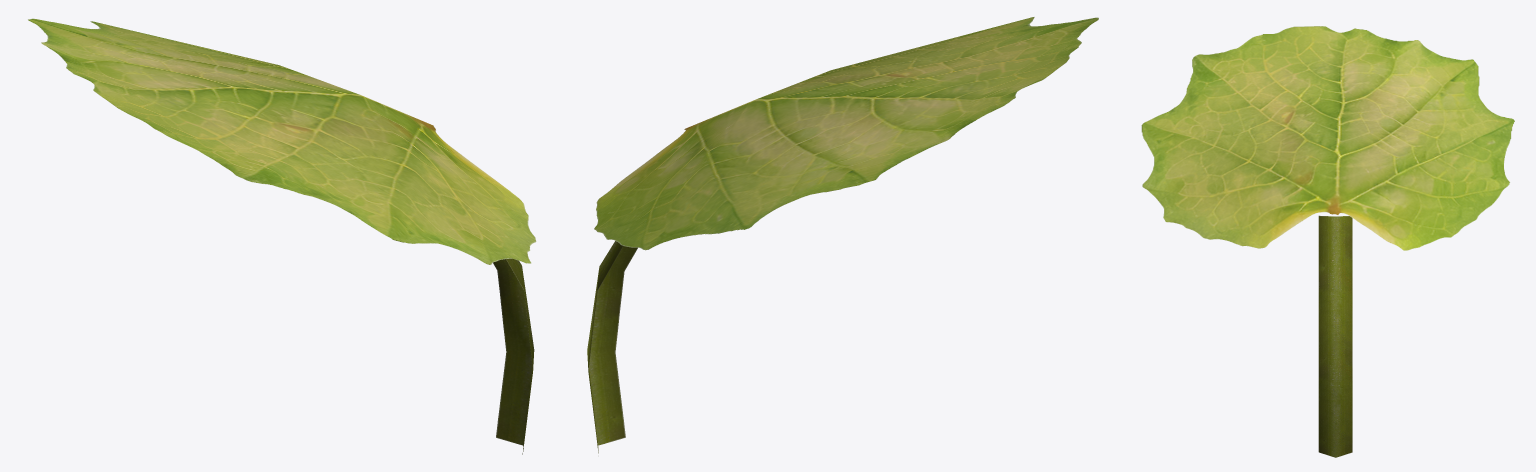
Rendered from Round4.fbx.
3 renders of one model, left to right at view 1: azimuth 30°, elevation 25°; view 2: azimuth 150°, elevation 25°; view 3: azimuth 270°, elevation 25°, orthographic. The views are drawn at different scales.
Visible parts, largest first — view 1: Round4; view 2: Round4; view 3: Round4.
Boxes of the visible parts, box(x1,y1,x2,y2) form: Round4: box(28, 18, 536, 454); Round4: box(587, 17, 1098, 453); Round4: box(1141, 26, 1514, 457).
Bounding box in the file's own units: 0.5588 × 0.5433 × 0.626.
